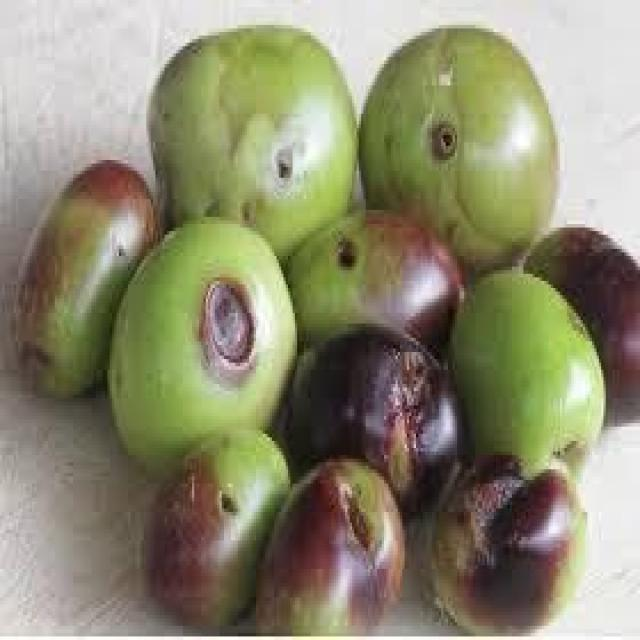Olive Fruit Fly: (359, 25, 555, 270), (149, 25, 352, 256), (107, 220, 295, 462), (16, 164, 155, 391), (286, 324, 457, 505), (421, 455, 585, 629), (144, 430, 288, 626), (258, 459, 402, 629), (286, 210, 462, 348)
